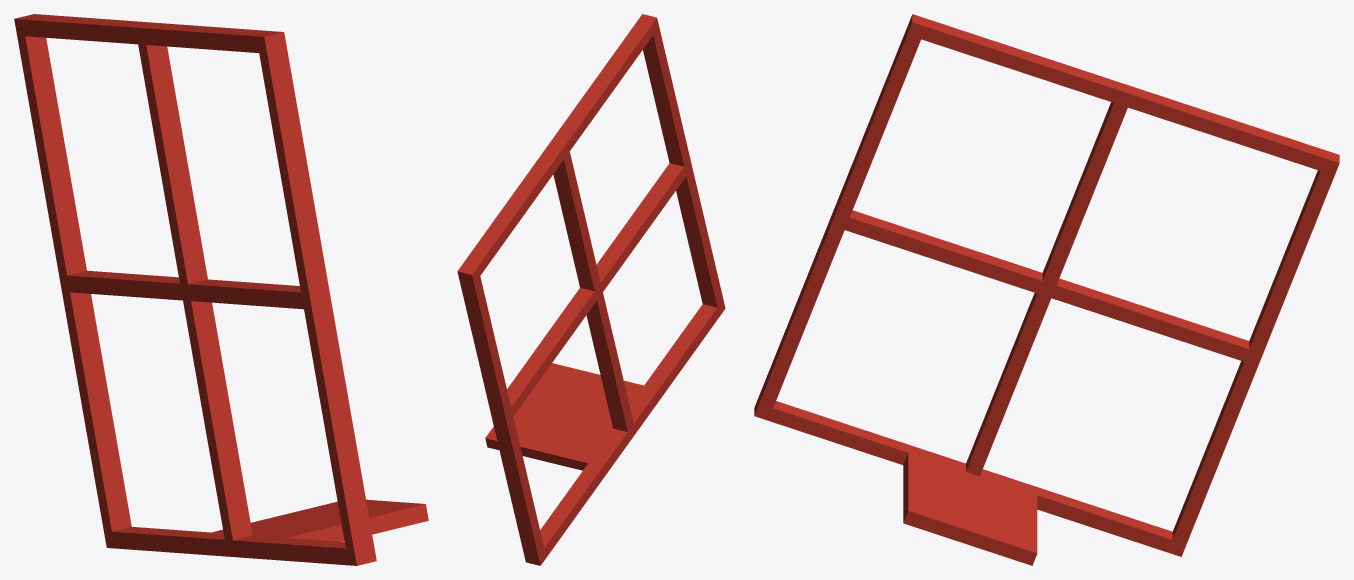
The model's file is EBoxNewAsm_stp_1_spacer_2_stp_2_solid1.obj.
3 views of the same model, side by side, from view 1: azimuth 30°, elevation 25°; view 2: azimuth 150°, elevation 25°; view 3: azimuth 270°, elevation 25° (orthographic). The views are drawn at different scales.
Visible parts, largest first — view 1: mesh15737, mesh15726, mesh15743, mesh15732, mesh15735, mesh15741, mesh15729, mesh15728, mesh15724, mesh15738, mesh15744; view 2: mesh15737, mesh15729, mesh15728, mesh15727, mesh15744, mesh15738, mesh15733, mesh15730, mesh15745, mesh15739, mesh15723; view 3: mesh15736, mesh15729, mesh15728, mesh15722, mesh15744, mesh15738, mesh15726.
Boxes of the visible parts, x1,y1,x2,y2 form: mesh15737: (14,19,356,565); mesh15726: (264,32,376,565); mesh15743: (25,36,86,275); mesh15732: (191,301,252,540); mesh15735: (70,292,131,531); mesh15741: (146,45,207,284); mesh15729: (113,499,424,548); mesh15728: (14,14,283,36); mesh15724: (287,504,428,541); mesh15738: (189,279,300,292); mesh15744: (67,270,179,283); mesh15737: (472,18,725,565); mesh15729: (485,304,716,547); mesh15728: (457,14,656,274); mesh15727: (457,271,540,565); mesh15744: (507,288,594,406); mesh15738: (596,163,683,282); mesh15733: (586,301,627,431); mesh15730: (676,176,717,307); mesh15745: (553,160,594,291); mesh15739: (643,35,683,166); mesh15723: (485,438,587,470); mesh15736: (754,22,1339,556); mesh15729: (773,401,1172,552); mesh15728: (912,14,1339,162); mesh15722: (903,511,1037,565); mesh15744: (1056,278,1249,348); mesh15738: (850,210,1042,280); mesh15726: (754,15,912,415).
Size of the model in its own units: 0.04 by 0.1504 by 0.1492.
